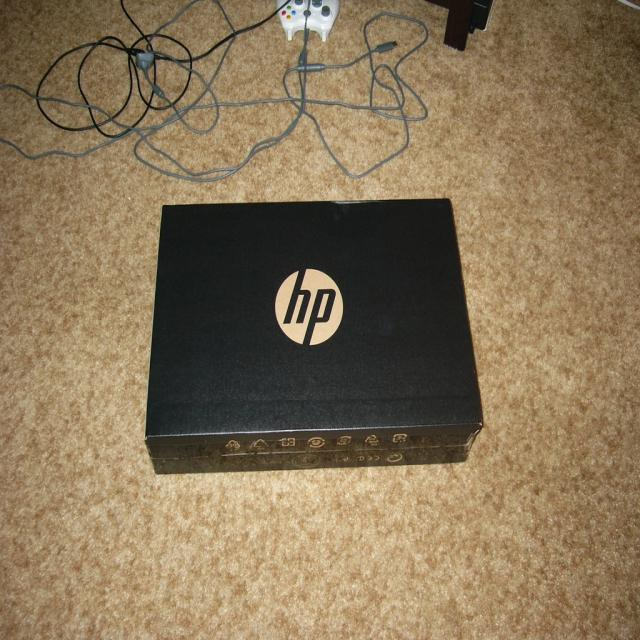HP: (272, 264, 348, 352)
